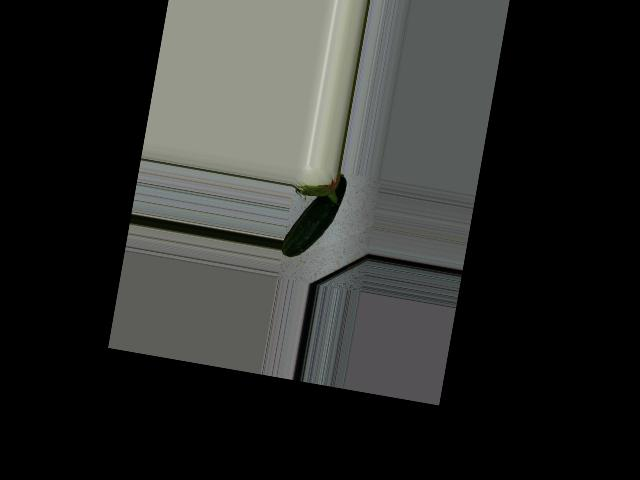cucumber: (280, 166, 347, 264)
